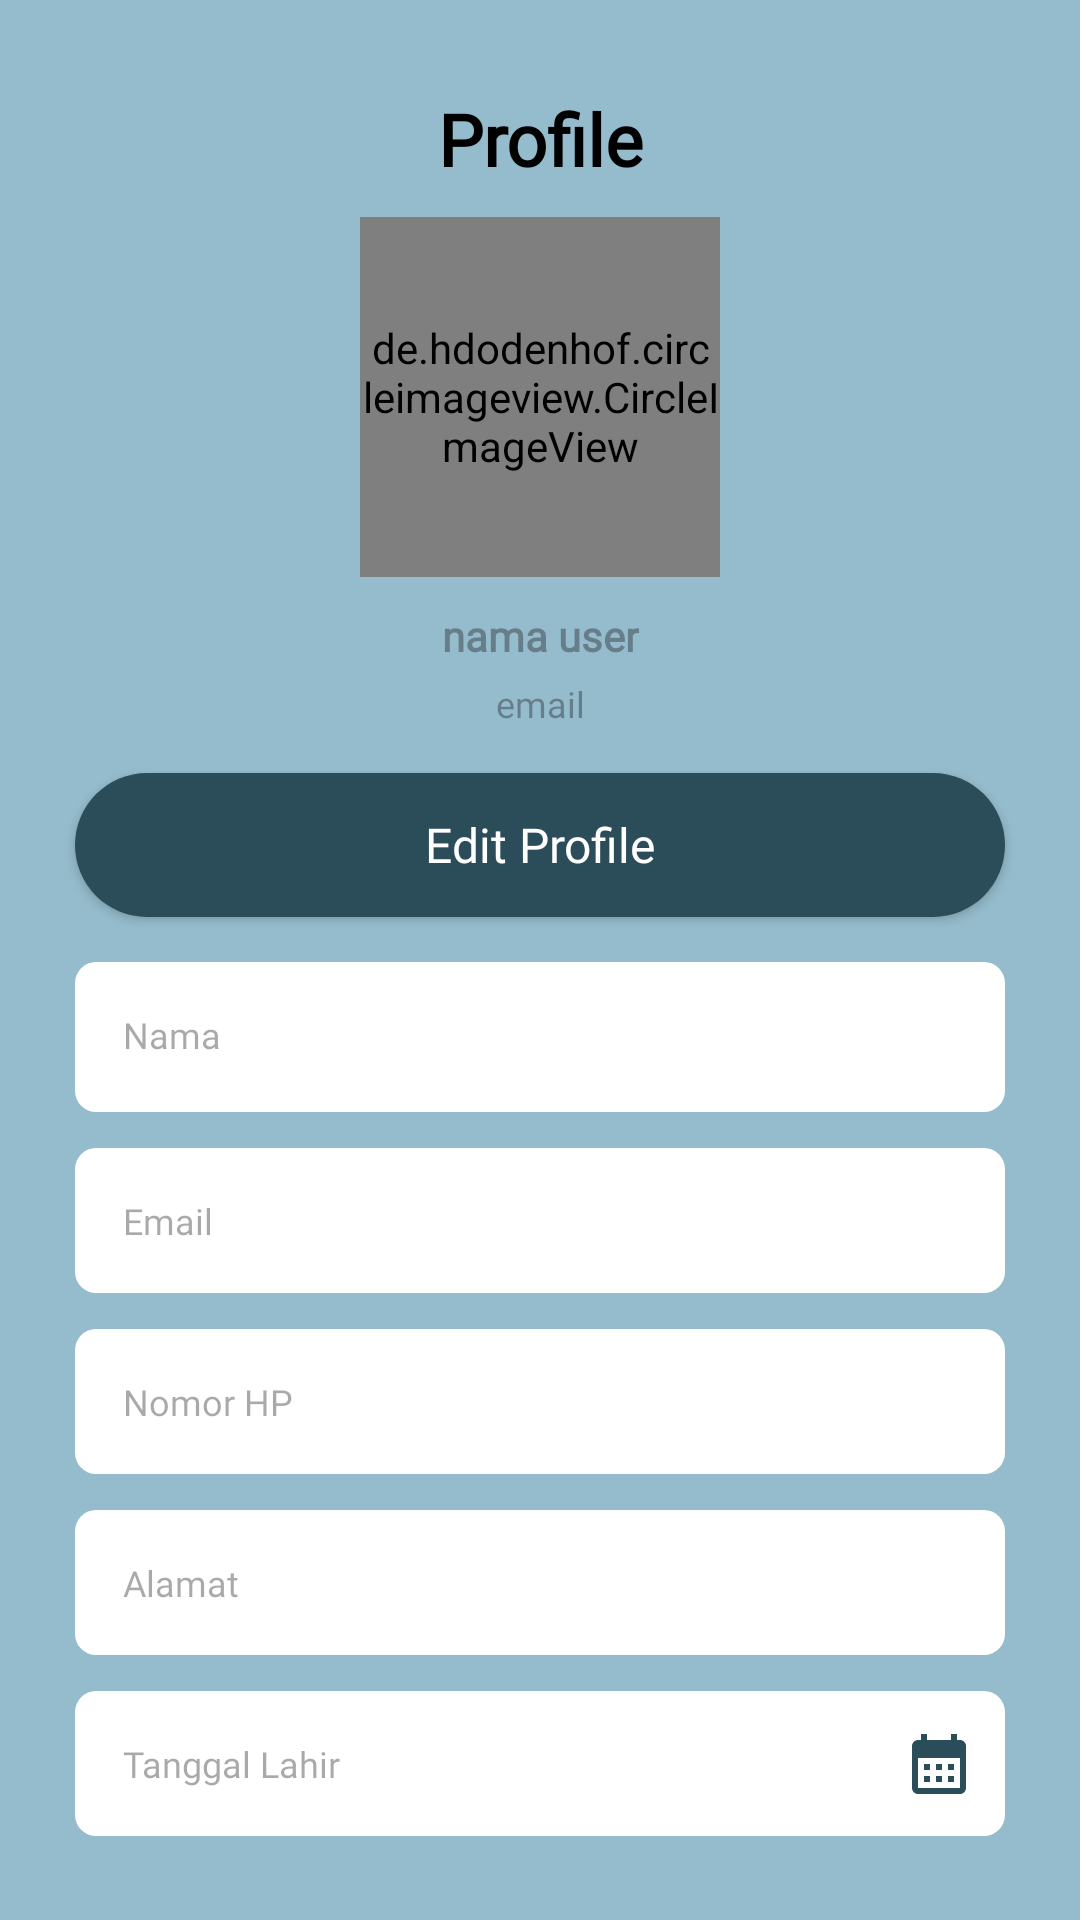

Where to tap for icons on this 1080w x 1920h app screen, as point (x, y):
calendar: point (939, 1764)
